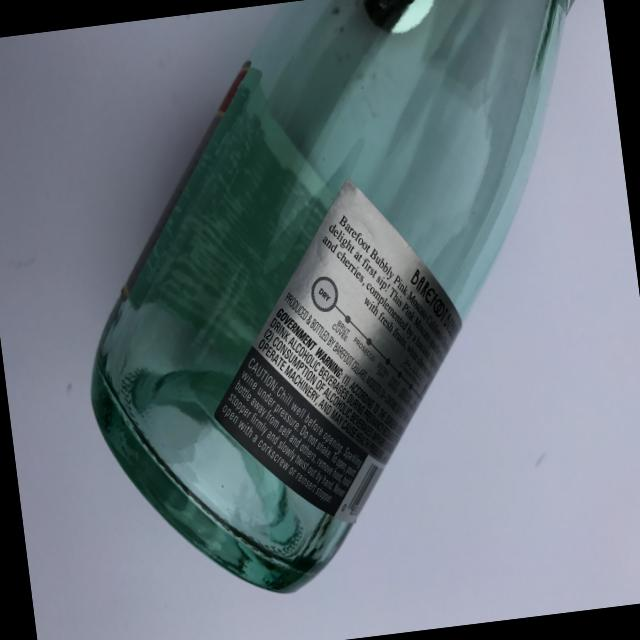Glass: (33, 0, 640, 627)
